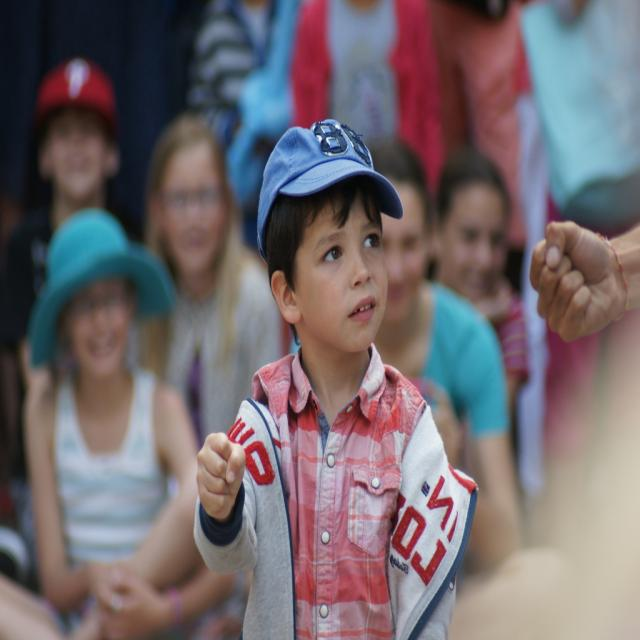Hat: (31, 207, 174, 369), (256, 113, 403, 267), (32, 61, 120, 131)
